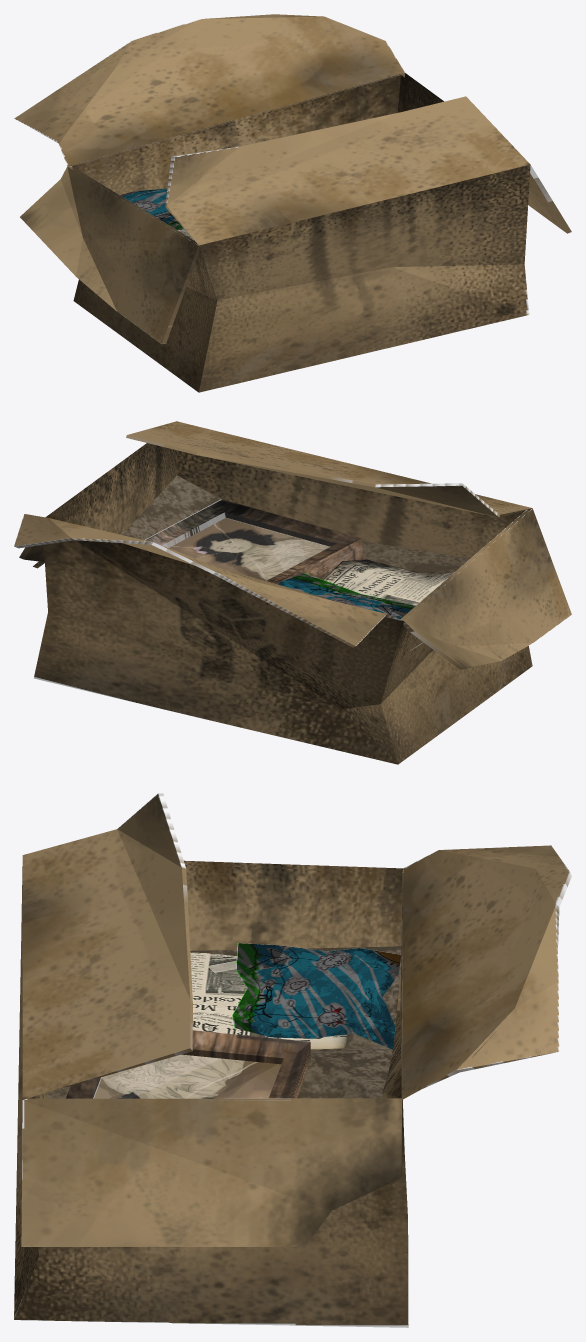
The model's file is memorybox 1.fbx.
3 renders of one model, top to bottom at view 1: azimuth 30°, elevation 25°; view 2: azimuth 150°, elevation 25°; view 3: azimuth 270°, elevation 25°, orthographic. The views are drawn at different scales.
Parts seen in each view (by area): view 1: Object_3, Object_4; view 2: Object_3, Object_4, Object_2; view 3: Object_3, Object_4, Object_2.
Part boxes in pixels (left/top/right/bottom): Object_3: left=14, top=14, right=571, bottom=392; Object_4: left=120, top=188, right=183, bottom=230; Object_3: left=14, top=421, right=571, bottom=764; Object_4: left=122, top=475, right=469, bottom=619; Object_2: left=322, top=559, right=455, bottom=650; Object_3: left=14, top=793, right=571, bottom=1327; Object_4: left=47, top=943, right=401, bottom=1098; Object_2: left=190, top=952, right=347, bottom=1049.
Bounding box in the file's own units: 398 × 178 × 295.
